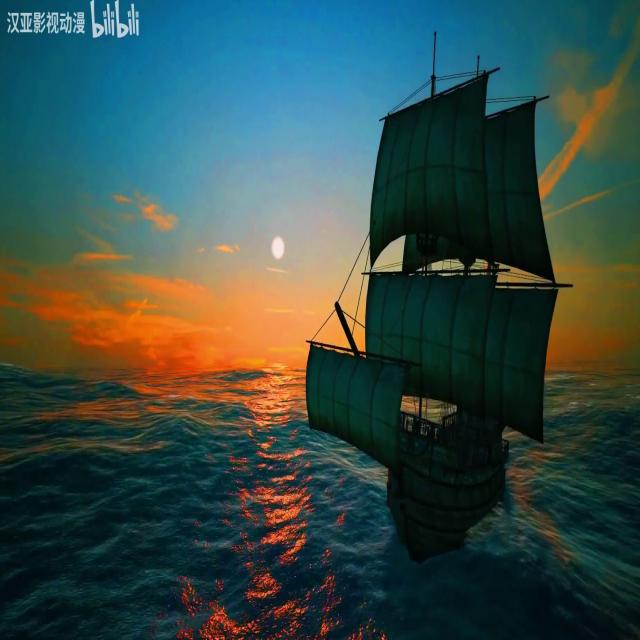sailboat: (305, 25, 551, 548)
